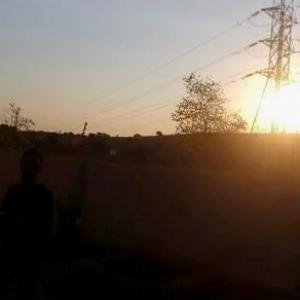follow: (0, 146, 64, 299)
